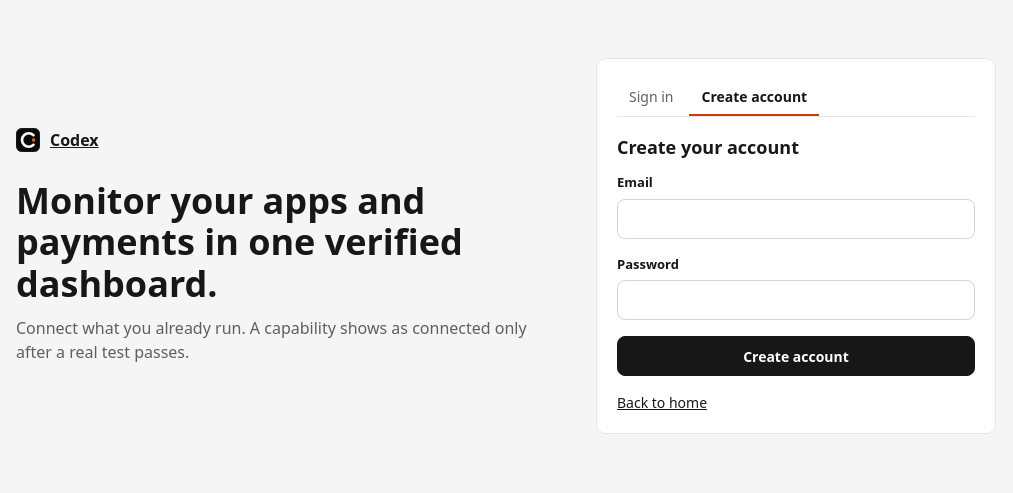
Test: signed out › sign up asks the user to confirm by email
Step 1. Type "new@acme.com" into the field labelled "Email" → [796, 219], box [617,199,975,239]
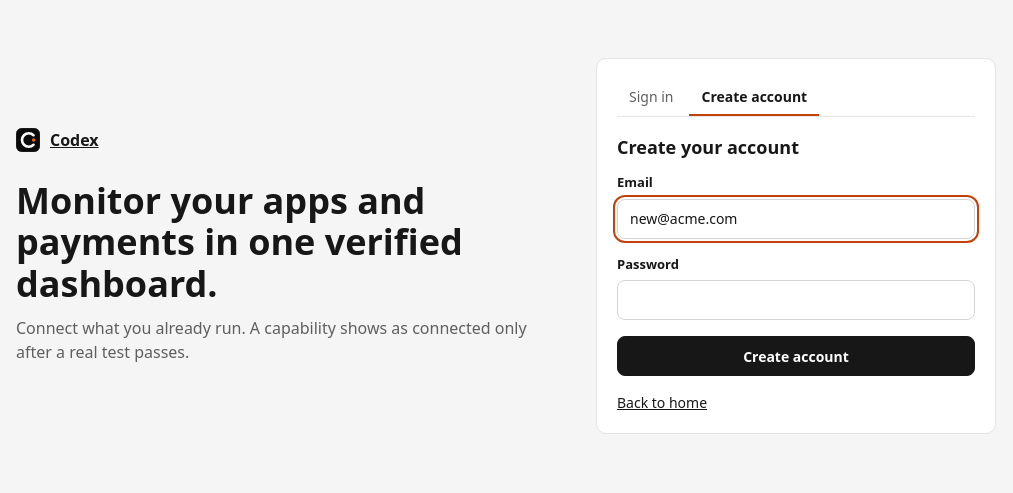
Step 2. Type "longenough1" into the password field labelled "Password" → [796, 300], box [617,280,975,320]
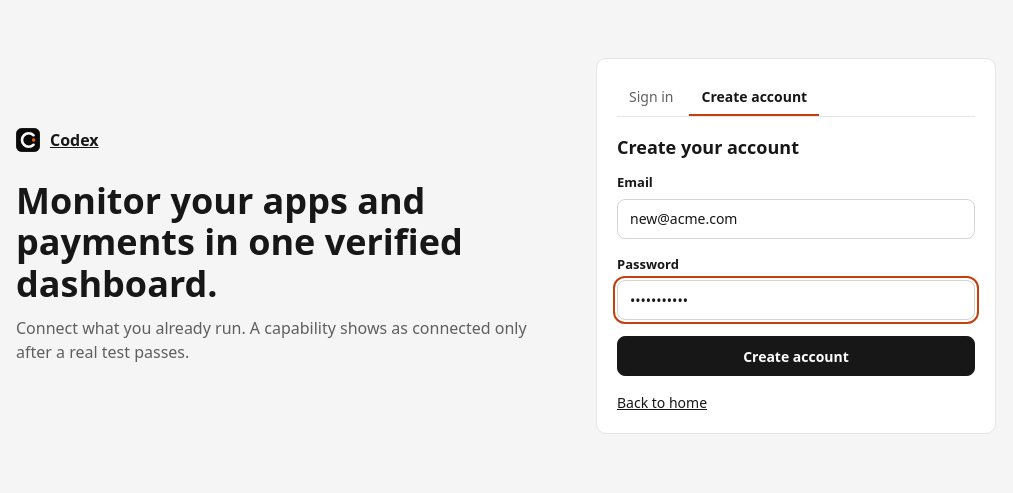
Step 3. Click the button "Create account" below "Password" → [796, 356], box [617,336,975,376]
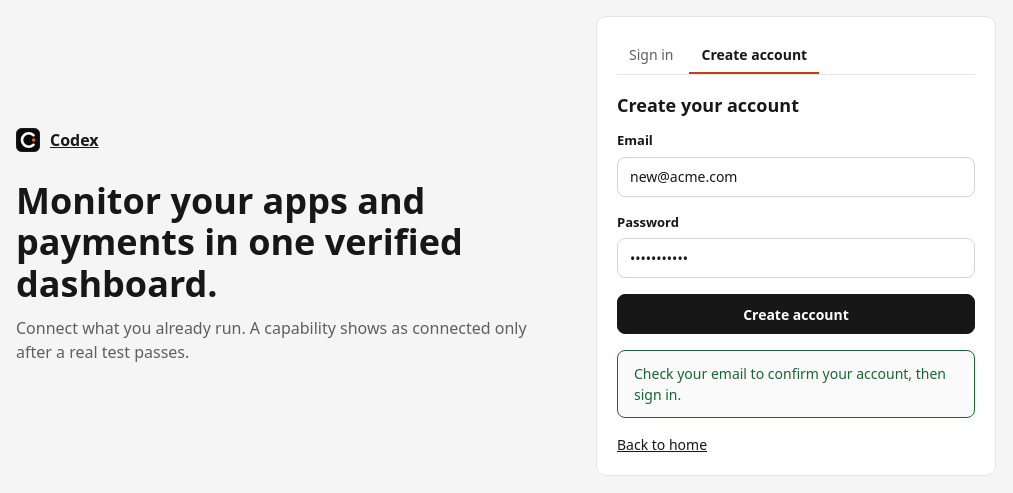
Check: the text "Check your email to confirm your account, then sign in." is shown, box [617,350,975,418]
